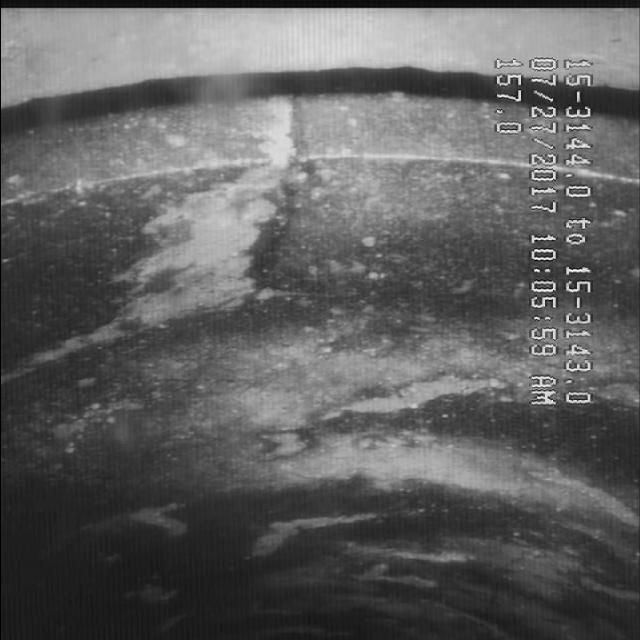Crack: (149, 95, 335, 473)
